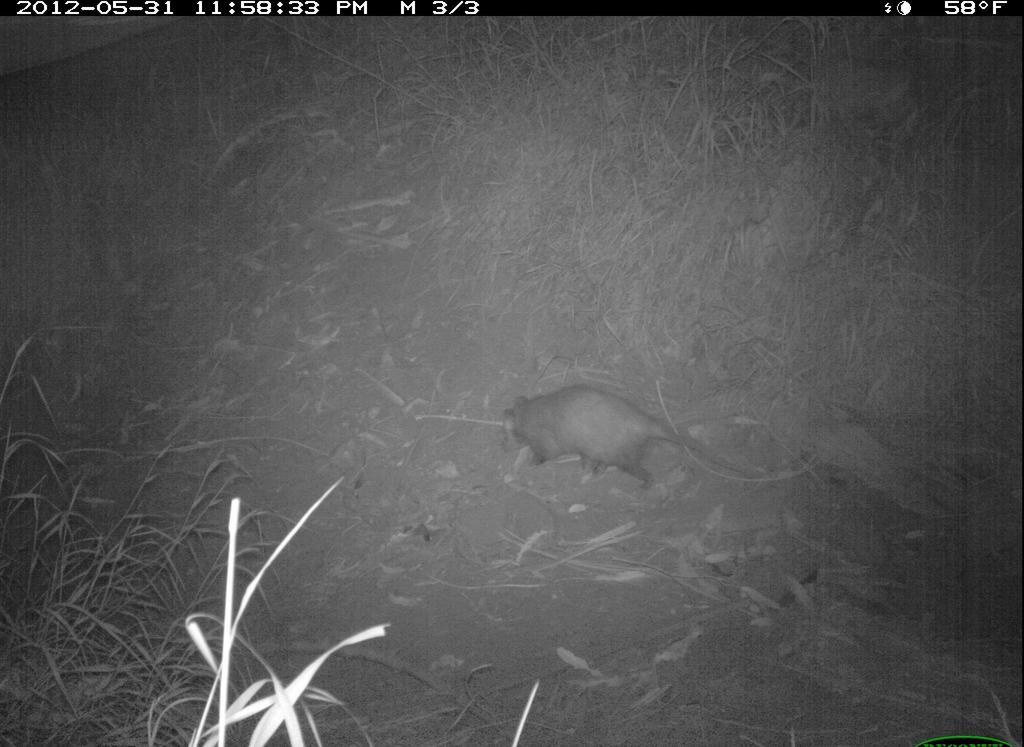opossum: (495, 378, 763, 500)
